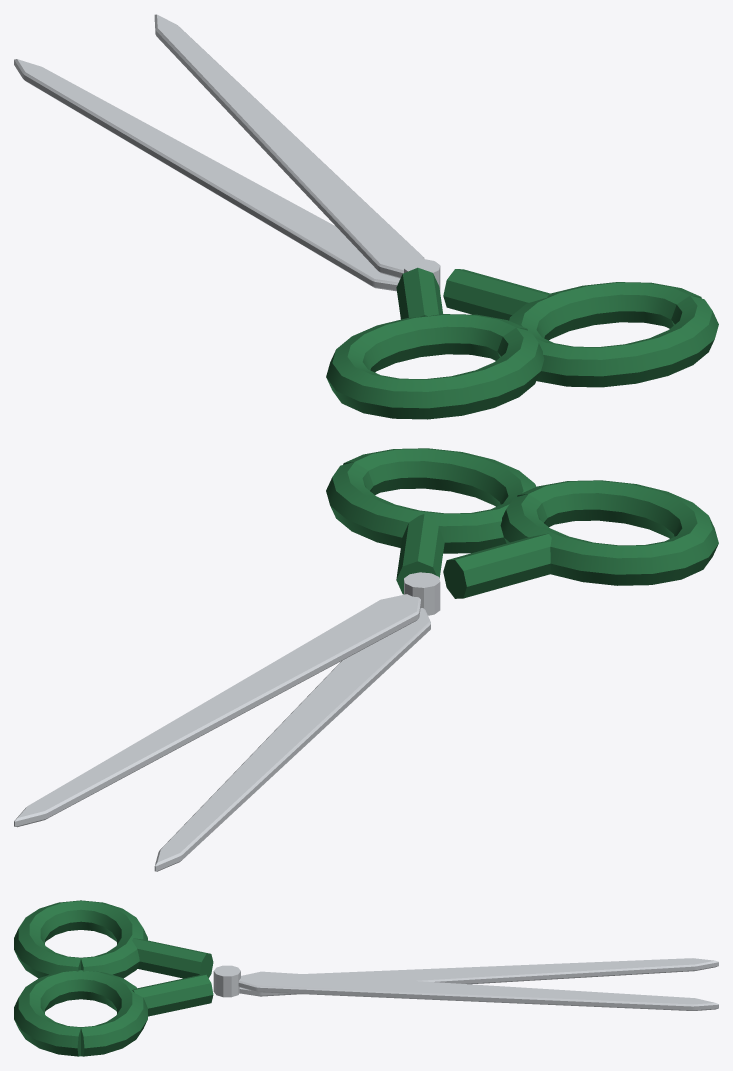
The model's file is scissors.glb.
The picture shows the model from 3 angles, top to bottom: view 1: azimuth 30°, elevation 25°; view 2: azimuth 150°, elevation 25°; view 3: azimuth 270°, elevation 25°; orthographic projection. The views are drawn at different scales.
Parts seen in each view (by area): view 1: scissors; view 2: scissors; view 3: scissors.
Boxes of the visible parts, x1,y1,x2,y2 form: scissors: (14,14,718,419); scissors: (14,448,718,871); scissors: (14,900,718,1056).
Bounding box in the file's own units: 0.07 × 0.00888 × 0.1576.
